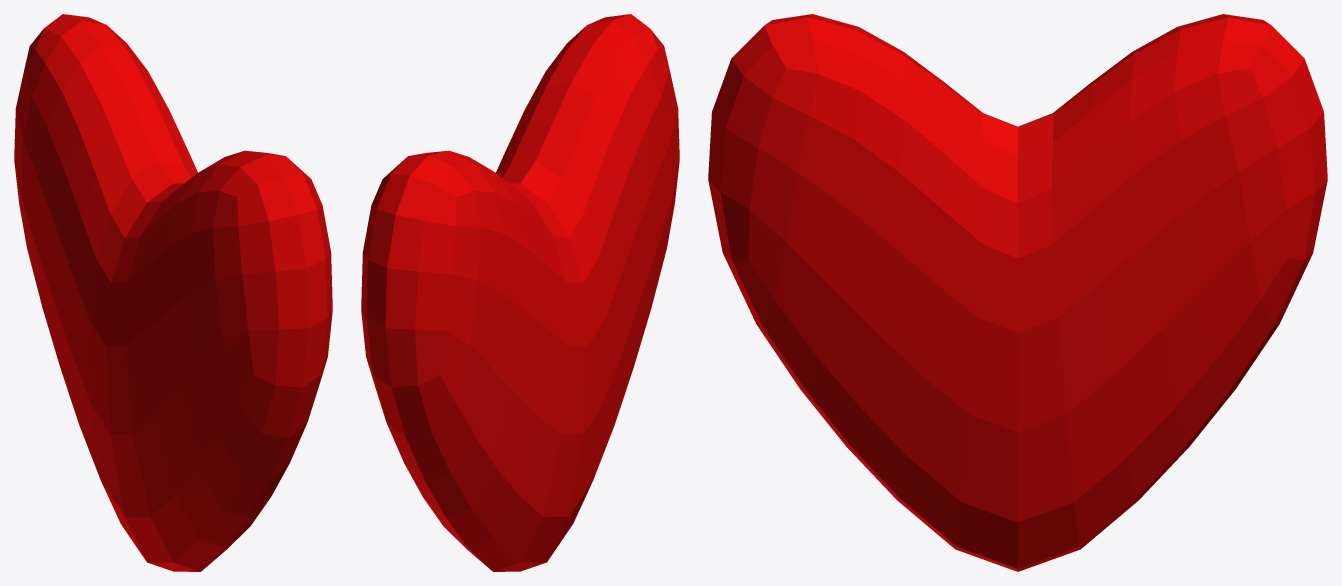
Rendered from heart.gltf.
3 renders of one model, left to right at view 1: azimuth 30°, elevation 25°; view 2: azimuth 150°, elevation 25°; view 3: azimuth 270°, elevation 25°, orthographic. The views are drawn at different scales.
Parts seen in each view (by area): view 1: Heart; view 2: Heart; view 3: Heart.
Part boxes in pixels (x1,y1,x2,y2): Heart: (14,14,332,571); Heart: (361,14,679,571); Heart: (708,14,1327,571).
Size of the model in its own units: 0.5275 by 1.8 by 1.83.
